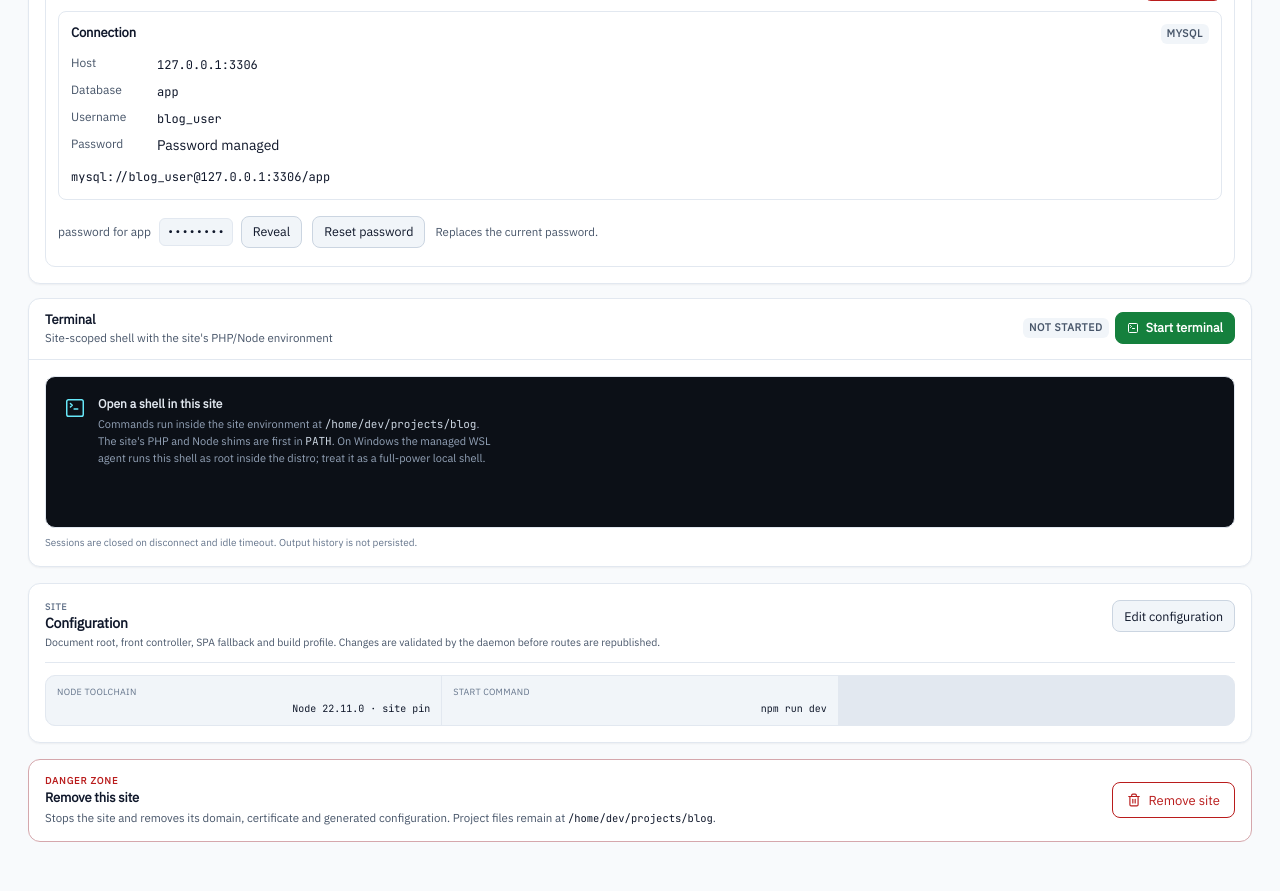
Test: SiteDetail configuration and builds › preflights and installs a stale pin, then selects the exact installed build
The width and height of the screenshot is (1280, 891).
(page scrolled)
Click the button "Edit configuration": (1174, 616) [1112, 600, 1235, 632]
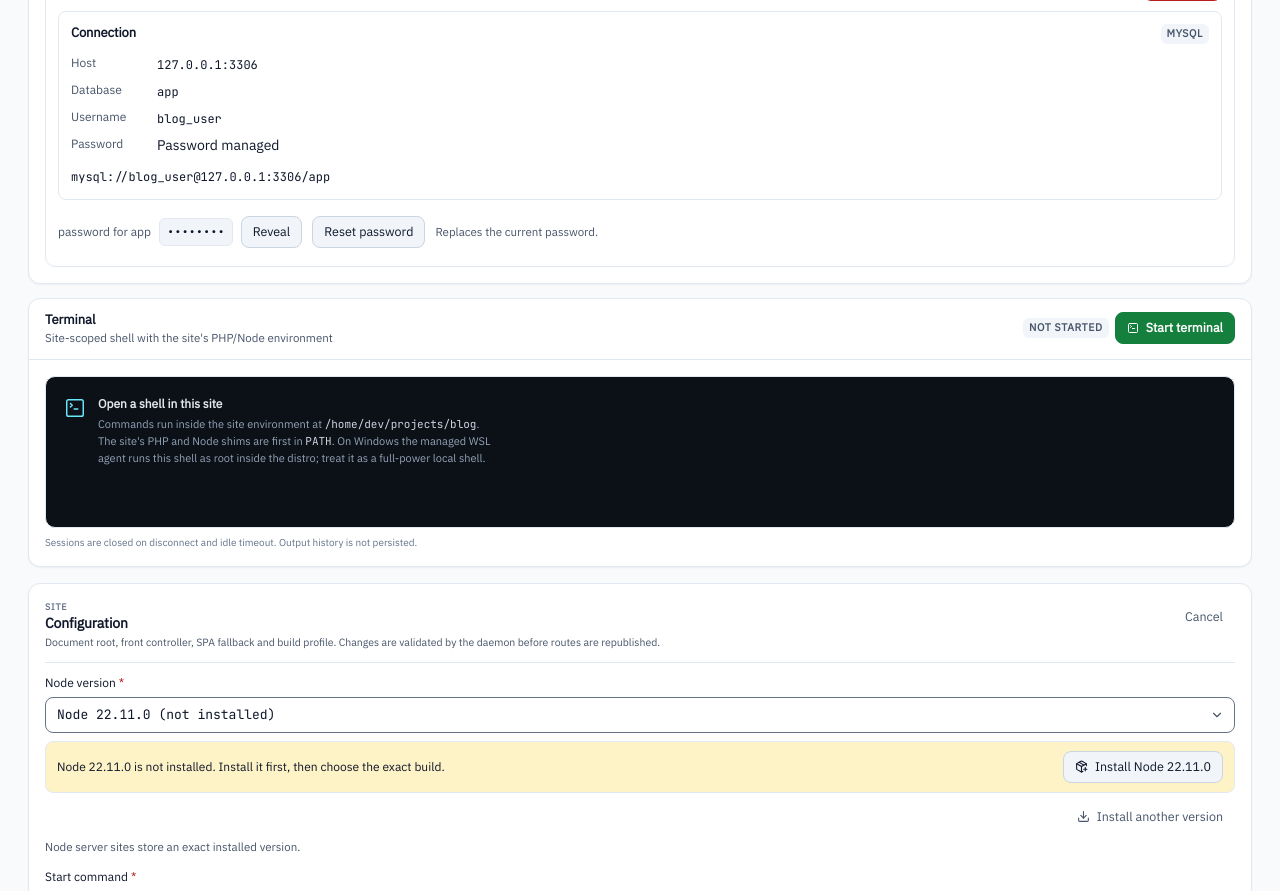
Now the dropdown labelled "Node version *" shows "Node 22.11.0 (not installed)", box [45, 697, 1235, 733]
Click the button "Install Node 22.11.0": (1143, 767) [1063, 751, 1223, 783]
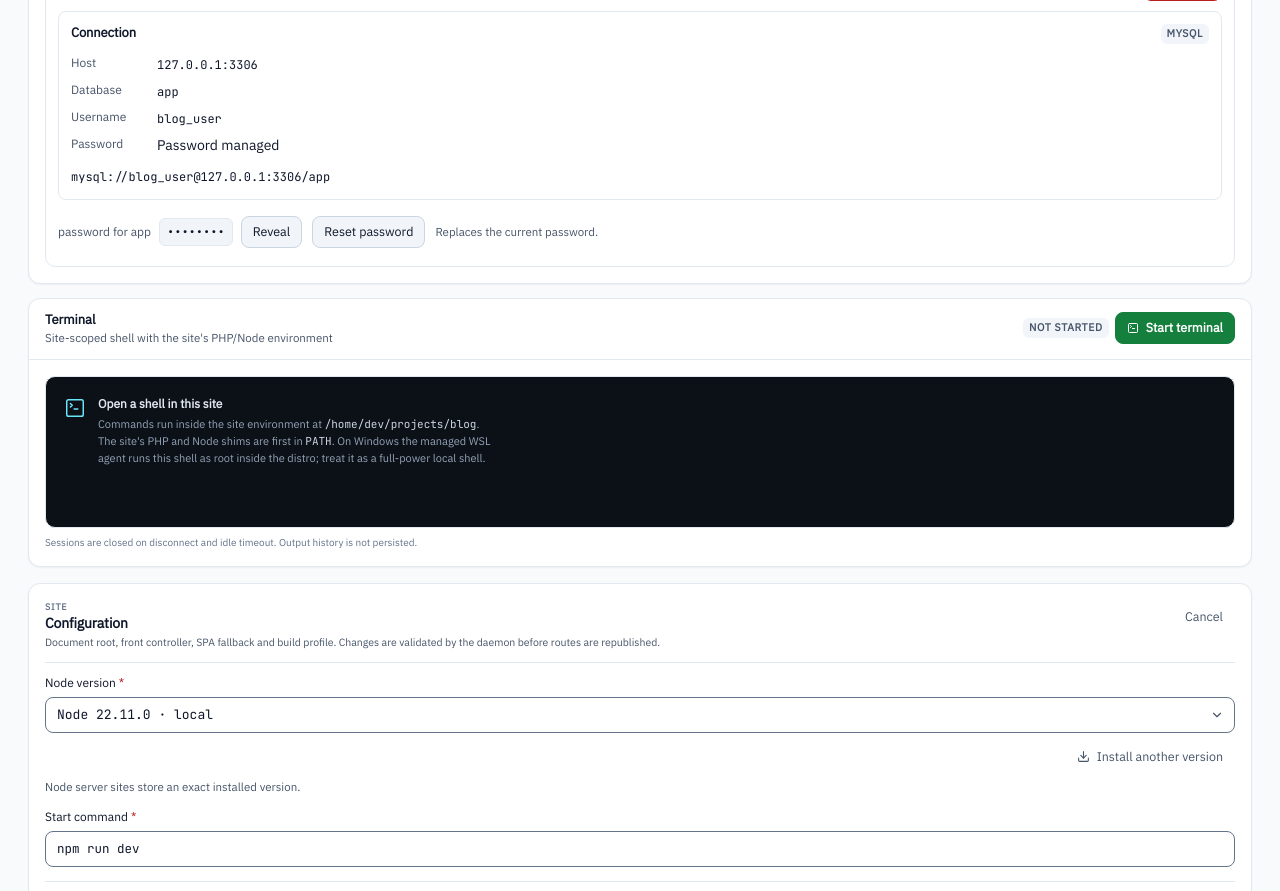
Now the dropdown labelled "Node version *" shows "Node 22.11.0 · local", box [45, 697, 1235, 733]
Now the button "Install Node 22.11.0" is gone
